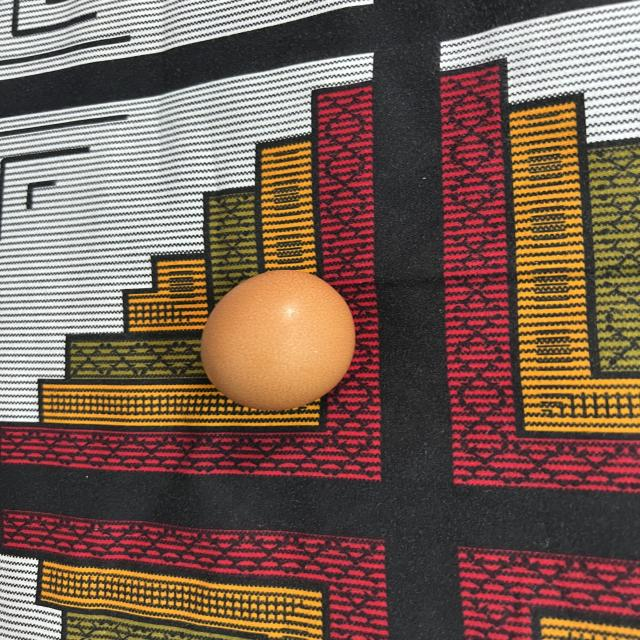Egg: (189, 265, 359, 414)
